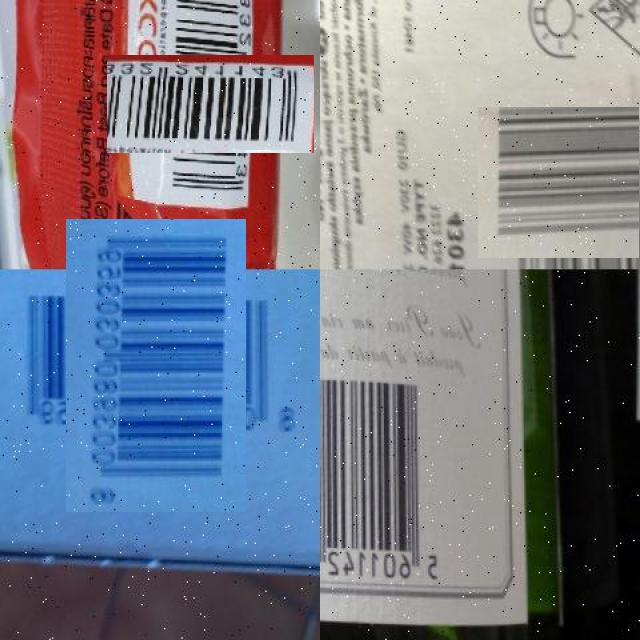Barcode: (38, 248, 274, 484), (483, 101, 640, 264), (320, 371, 440, 581), (134, 28, 286, 180)
